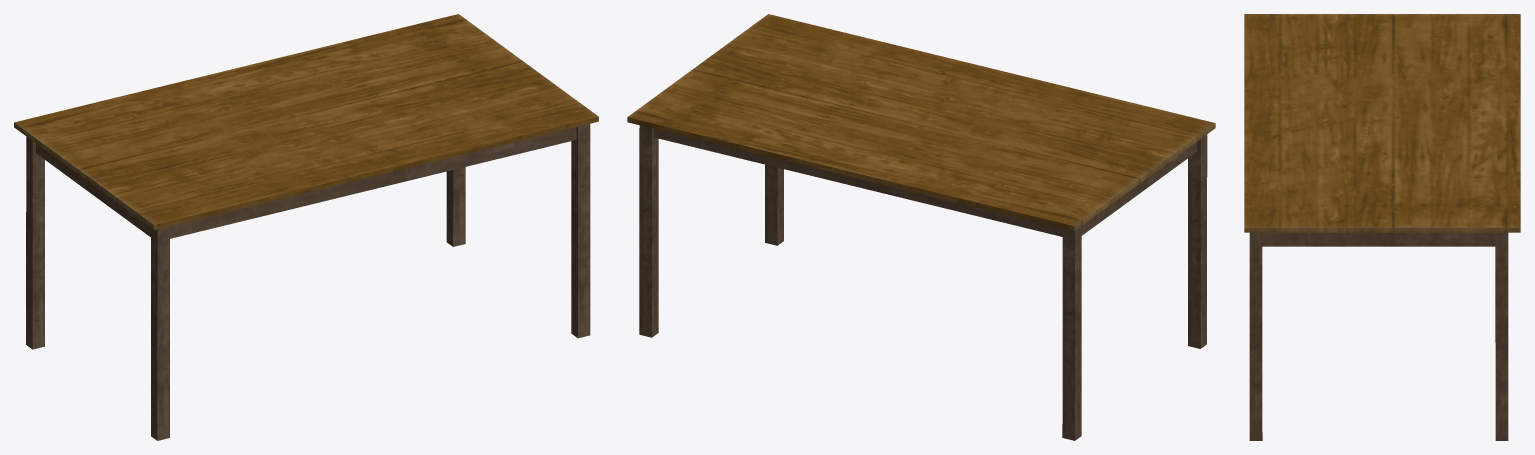
The model's file is table01a.fbx.
The picture shows the model from 3 angles, left to right: view 1: azimuth 30°, elevation 25°; view 2: azimuth 150°, elevation 25°; view 3: azimuth 270°, elevation 25°; orthographic projection. The views are drawn at different scales.
Visible parts, largest first — view 1: table01a; view 2: table01a; view 3: table01a.
Boxes of the visible parts, x1,y1,x2,y2 form: table01a: (14, 14, 598, 440); table01a: (627, 14, 1215, 440); table01a: (1244, 14, 1520, 440).
Bounding box in the file's own units: 1.85 × 0.8742 × 1.01.
